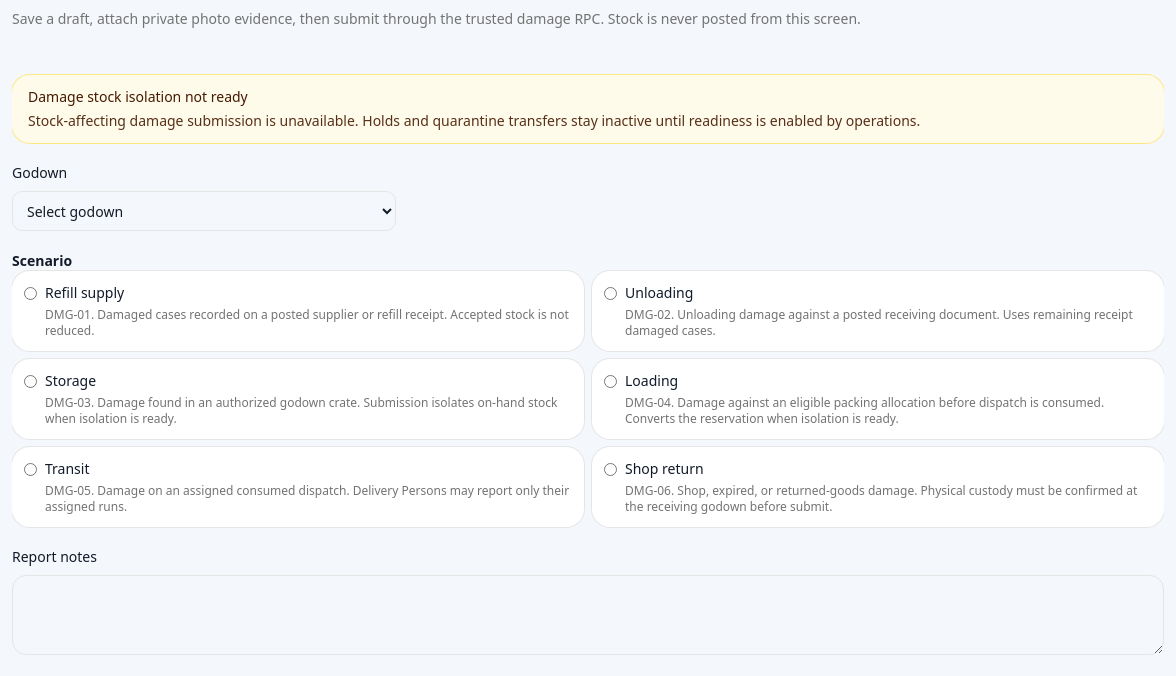
Test case: damage create form › loads scenario sources after godown and scenario selection
Select "Main Godown" in the dropdown labelled "Godown": (204, 211) [12, 191, 396, 231]
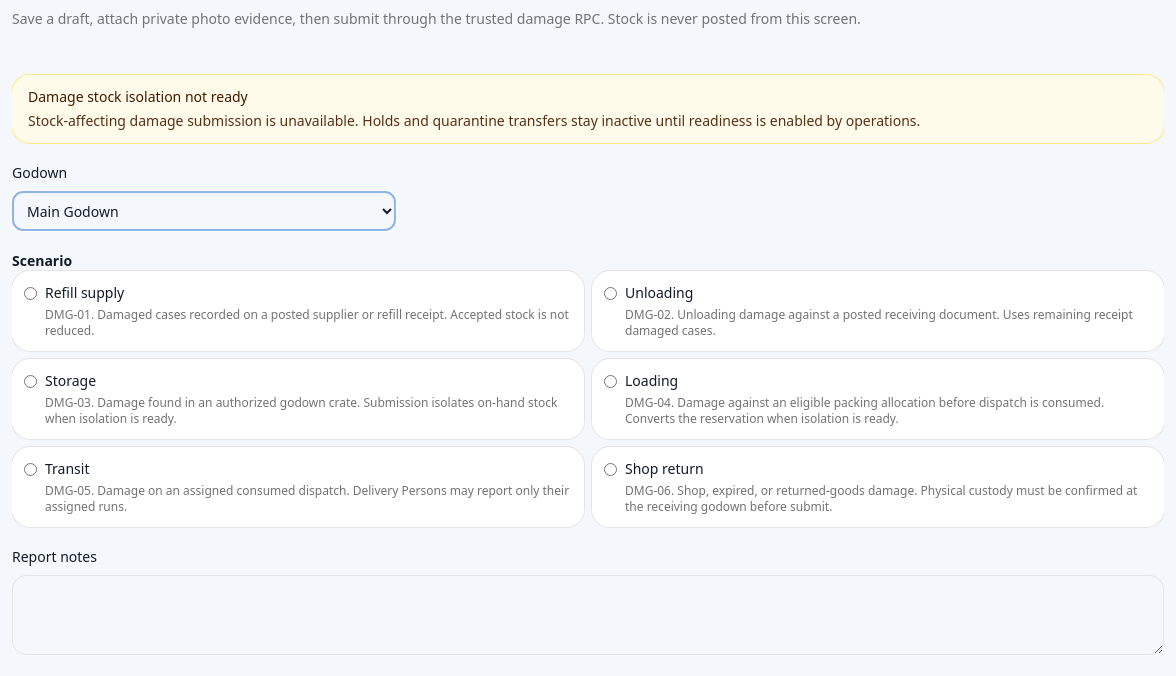
Click the radio button labelled "Refill supply": (30, 294) [24, 287, 37, 300]
(page scrolled)
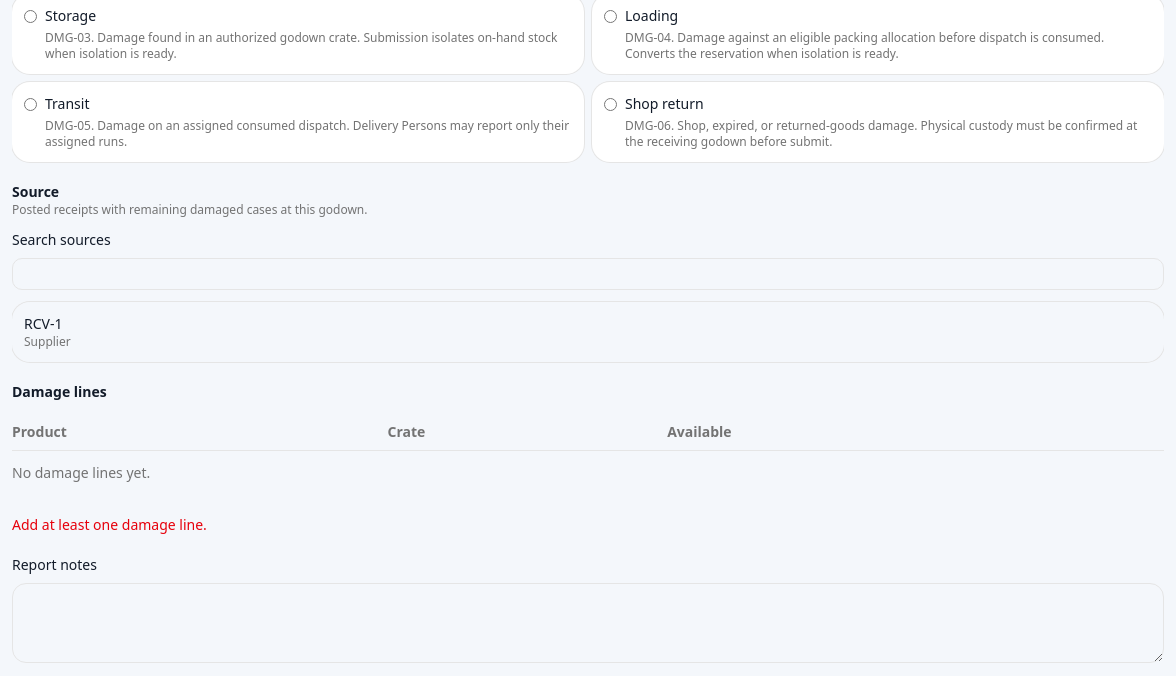
Now the text "RCV-1" is shown, box [24, 314, 62, 333]
